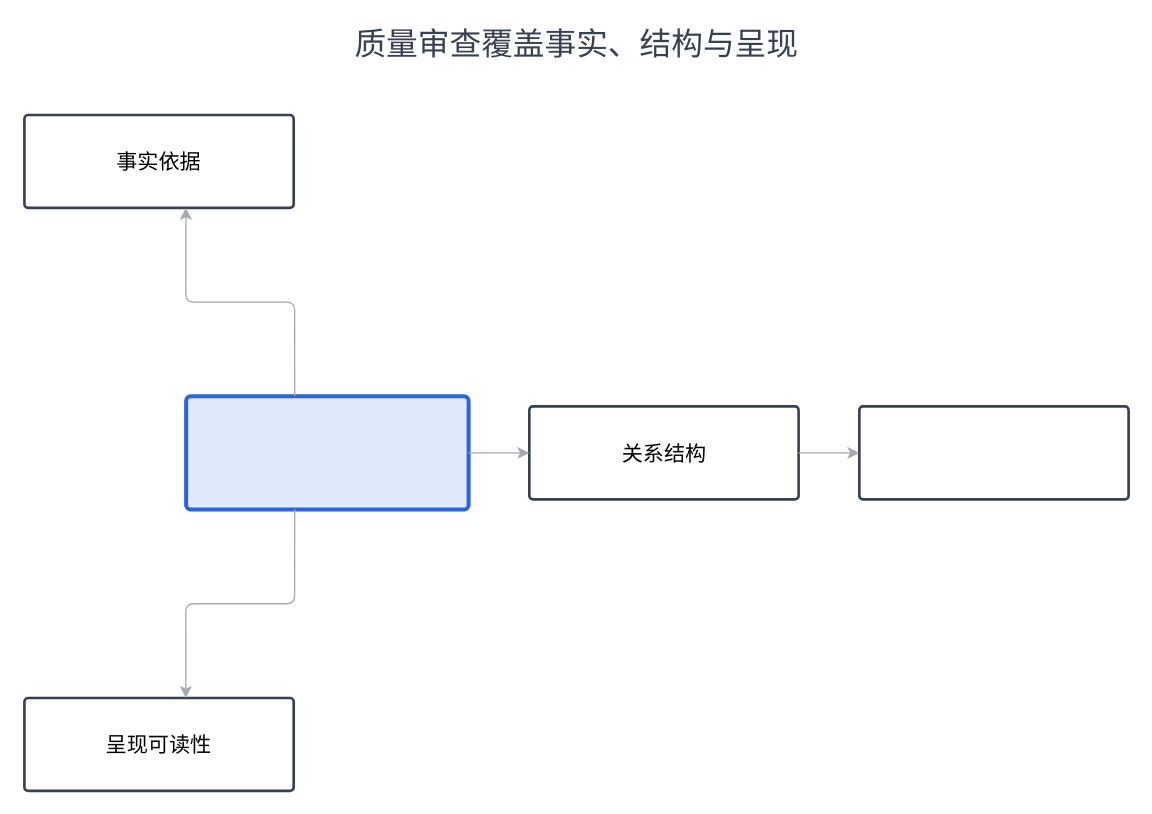
Image size: 1152x814. Some labels were removed from this diagram. The shapes that lost their labels are listed below. From the top down, each one's centre as x and y in pixels, then its label:
At [326,452]: "图的质量".
At [993,452]: "箭头方向".
